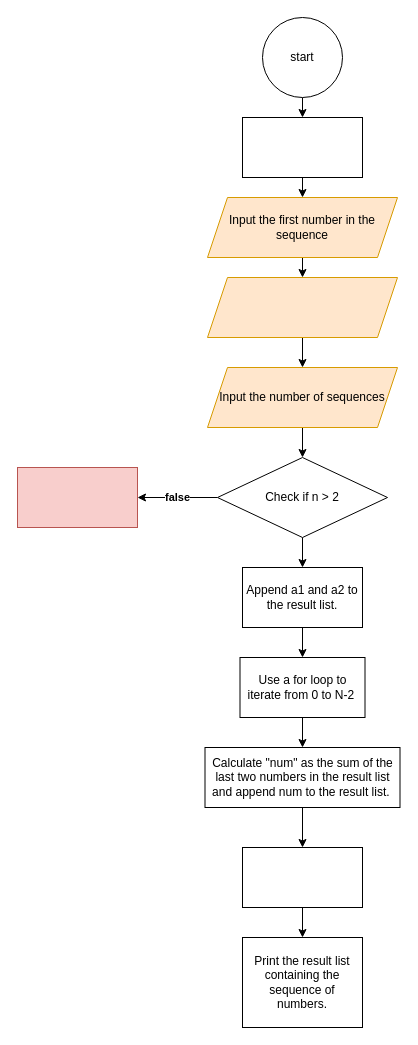
Some shapes in this 418 by 1045 pixel diagram are drawn without their labels. The centre of each missing label's shape, as x and y in pixels:
"Initialize an empty list ”result”" goes at (302,147).
"Input the second number in the sequence" goes at (302,307).
"Print error message." goes at (77,497).
"The loop ends after N-2 iterations." goes at (302,877).
